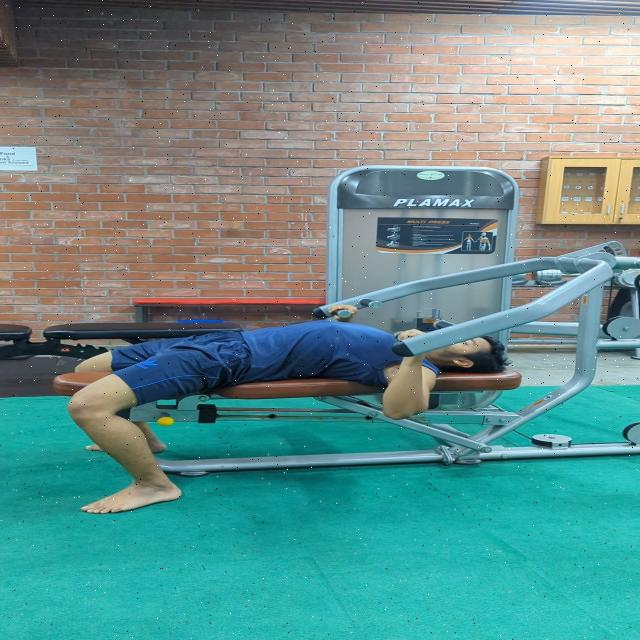Normal_BrenchPress: (46, 278, 546, 526)
